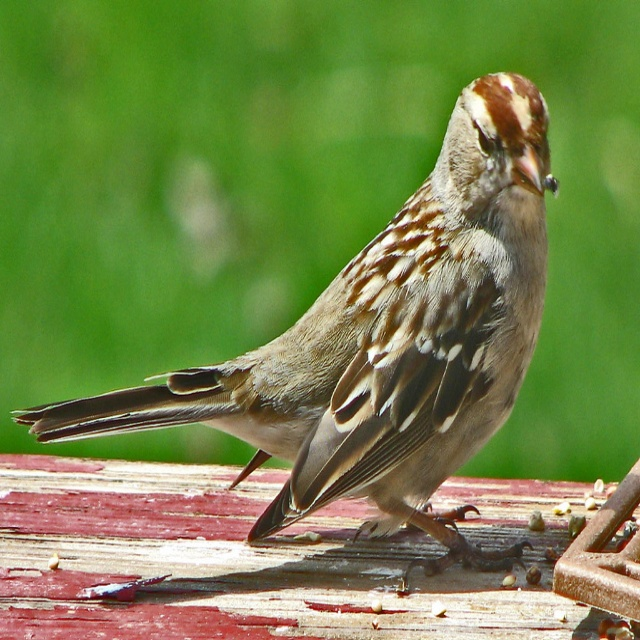Sparrow: (10, 72, 549, 587)
